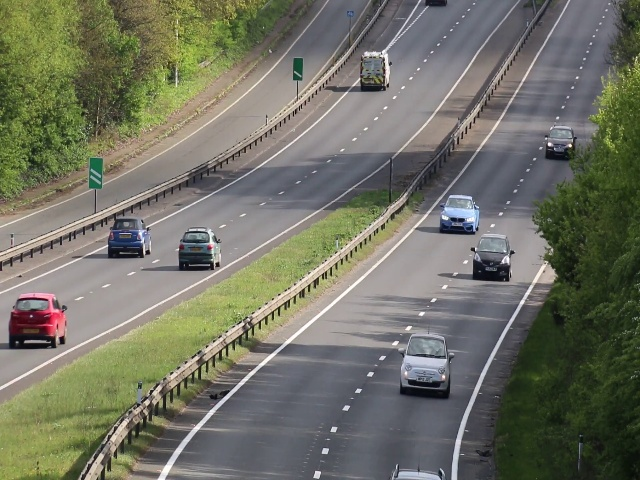car: (7, 293, 68, 350), (400, 335, 453, 392), (180, 227, 223, 272), (472, 236, 512, 281), (111, 217, 154, 257), (440, 195, 479, 233), (359, 51, 389, 90), (545, 126, 573, 160)
